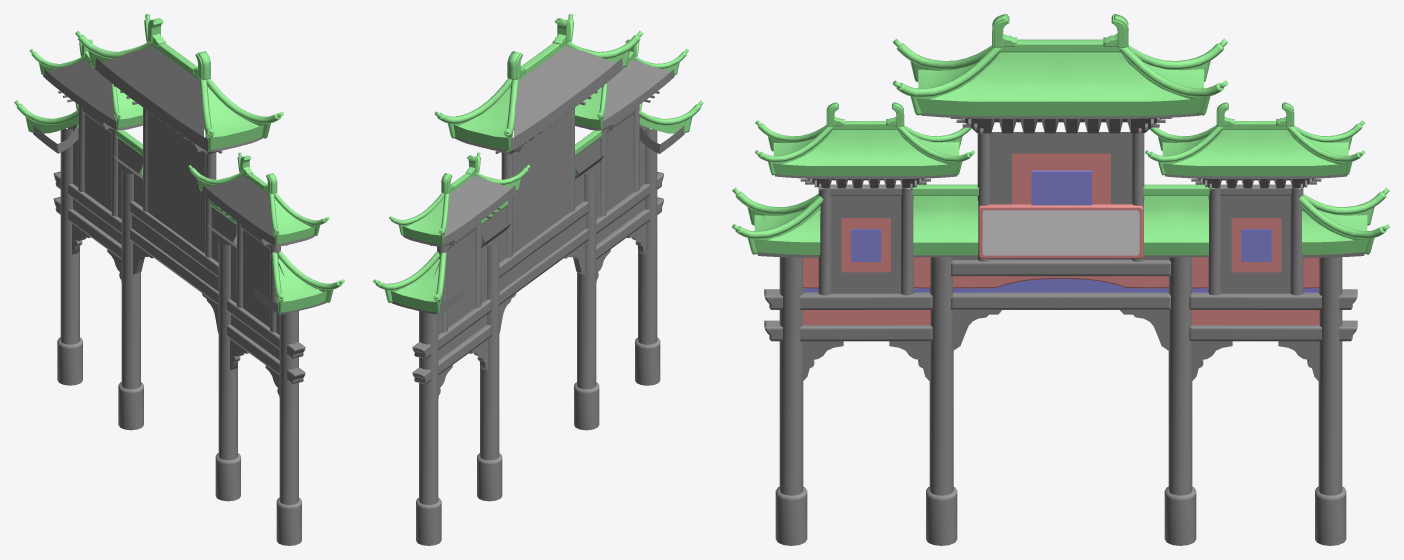
Rendered from CHN_GateLarge01.gltf.
3 renders of one model, left to right at view 1: azimuth 30°, elevation 25°; view 2: azimuth 150°, elevation 25°; view 3: azimuth 270°, elevation 25°, orthographic. The views are drawn at different scales.
Visible parts, largest first — view 1: CHN_GateLarge01; view 2: CHN_GateLarge01; view 3: CHN_GateLarge01.
Part boxes in pixels (x1,y1,x2,y2): CHN_GateLarge01: (14,14,344,545); CHN_GateLarge01: (373,14,703,545); CHN_GateLarge01: (732,14,1389,545).
Size of the model in its own units: 5.1 by 27.88 by 31.79.
